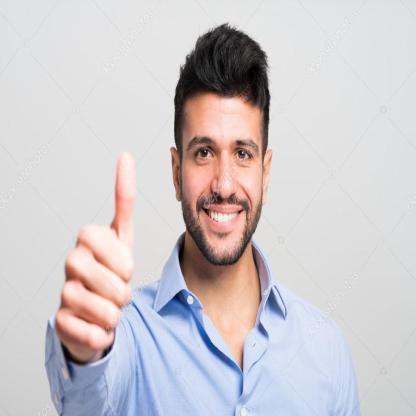Thumbs-Up: (52, 150, 142, 362)
